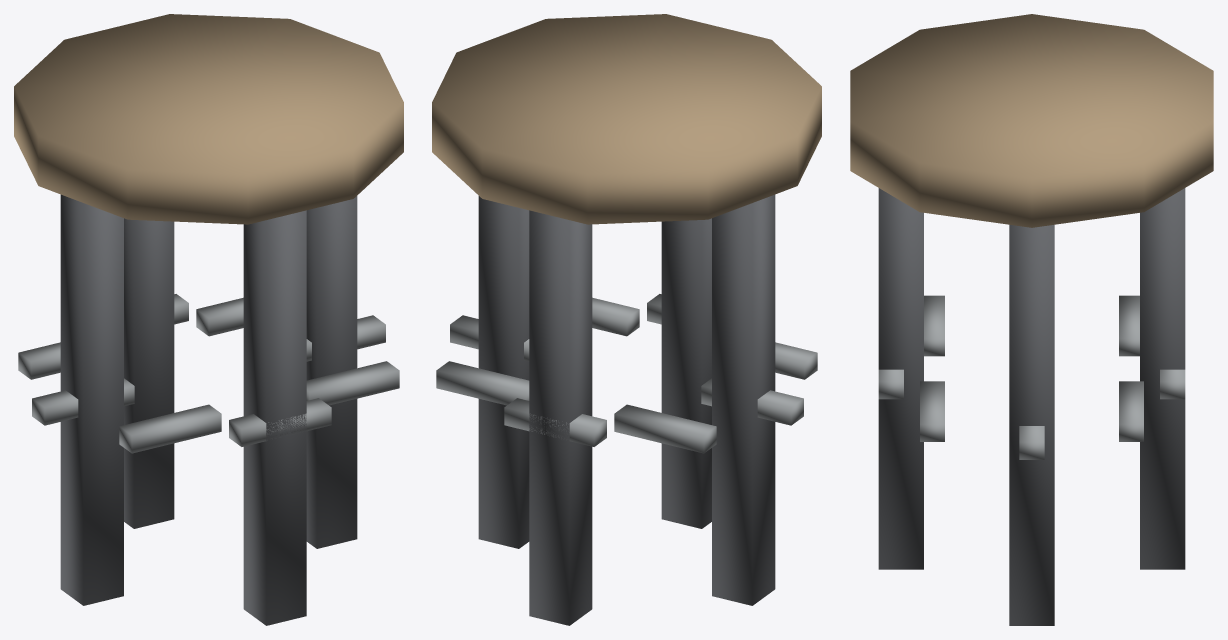
File: counter_stool__squat.glb
3 renders of one model, left to right at view 1: azimuth 30°, elevation 25°; view 2: azimuth 150°, elevation 25°; view 3: azimuth 270°, elevation 25°, orthographic.
Visible parts, largest first — view 1: world; view 2: world; view 3: world.
Boxes of the visible parts, left/top/right/bottom form: world: left=14, top=14, right=403, bottom=625; world: left=432, top=14, right=821, bottom=625; world: left=850, top=14, right=1213, bottom=625.
Size of the model in its own units: 0.418 by 0.5502 by 0.3903.
